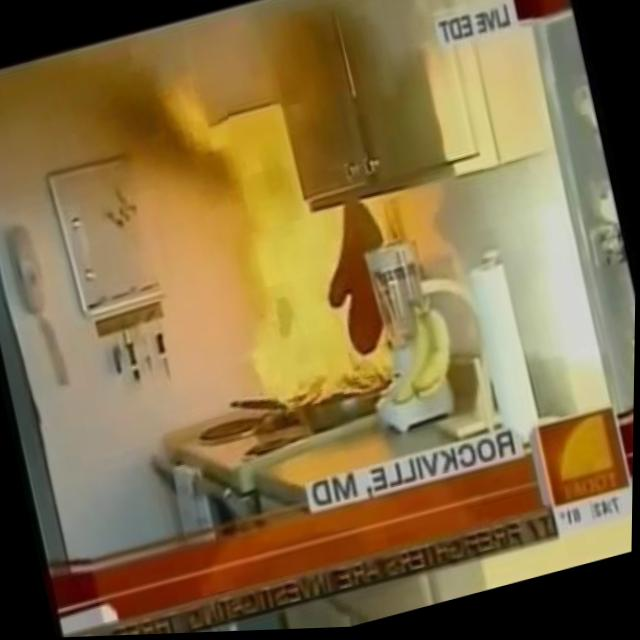fire: (220, 178, 390, 420)
